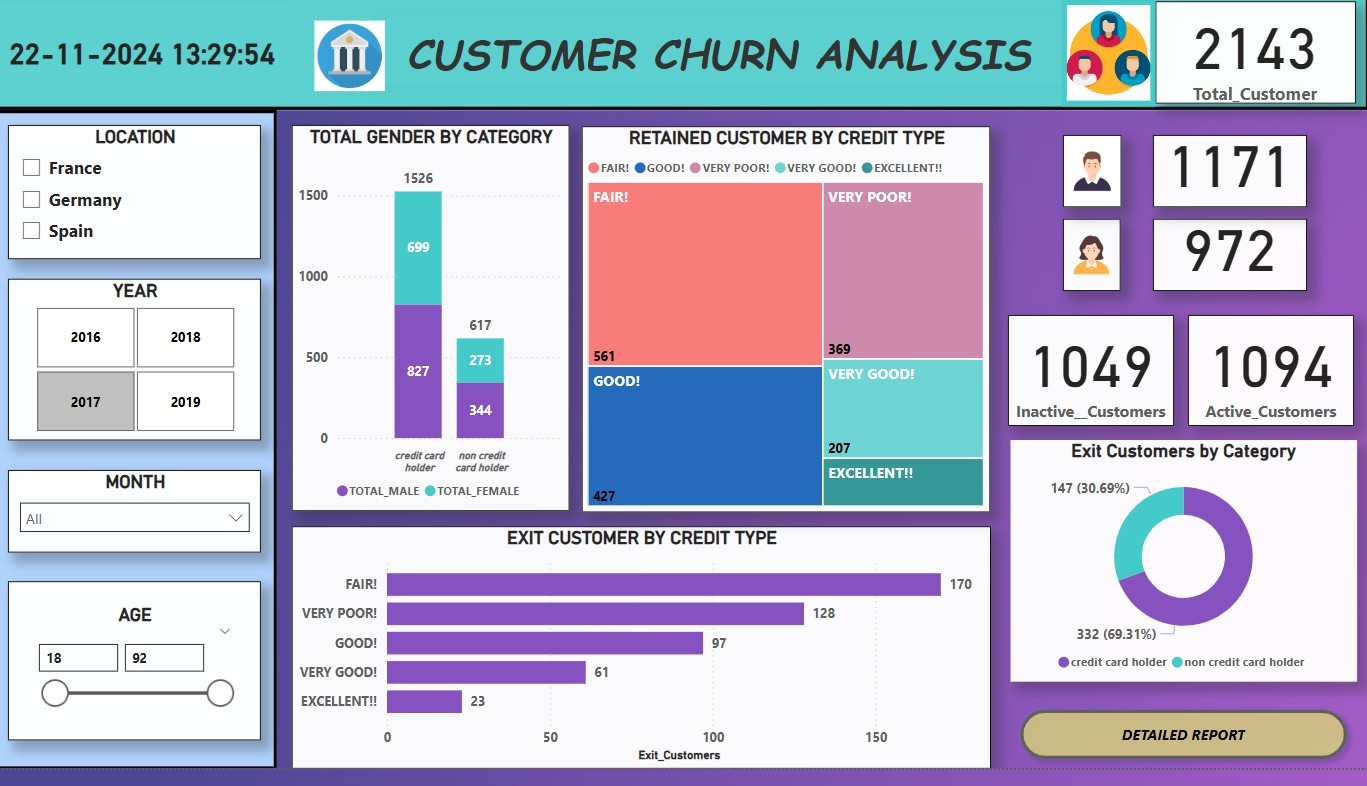

This screenshot's page, from the dashboard's own definition file:
{"tool":"powerbi","page":{"name":"SHEET 1","canvas":[1280,720],"ordinal":0},"visuals":[{"type":"shape","box":[0,0,1280,106.9],"z":0},{"type":"shape","box":[0,106.9,264.2,613.6],"z":1000},{"type":"slicer","title":"YEAR","fields":{"Values":["DatemasterTable.Year"]},"box":[14.4,264.2,235.3,150.1],"z":2000},{"type":"slicer","title":"MONTH","fields":{"Values":["DatemasterTable.Month"]},"box":[14.4,441.9,235.3,76.8],"z":3000},{"type":"slicer","title":"LOCATION","fields":{"Values":["Geography.GeographyLocation"]},"box":[14.4,121.3,235.3,124.9],"z":4000},{"type":"card","fields":{"Values":["calculations.Inactive__Customers"]},"box":[944.7,297.4,154.7,103.5],"z":5000},{"type":"card","fields":{"Values":["calculations.Active_Customers"]},"box":[1112.1,297.4,154.7,103.5],"z":6000},{"type":"image","box":[995.8,207.9,53.5,67.4],"z":7000},{"type":"card","fields":{"Values":["calculations.TOTAL_FEMALE"]},"box":[1079.5,207.9,143,67.4],"z":8000},{"type":"image","box":[995.8,130,54.7,67.4],"z":9000},{"type":"card","fields":{"Values":["calculations.TOTAL_MALE"]},"box":[1079.5,130,143,67.4],"z":10000},{"type":"card","fields":{"Values":["calculations.Total_Customer"]},"box":[1081.4,5.8,186,95.3],"z":11000},{"type":"donutChart","title":"Exit Customers by Category","fields":{"Category":["Credit.Category"],"Y":["calculations.Exit_Customers"]},"box":[946.5,414,322.1,224.4],"z":12000},{"type":"columnChart","title":"TOTAL GENDER BY CATEGORY","fields":{"Category":["Credit.Category"],"Y":["calculations.TOTAL_MALE","calculations.TOTAL_FEMALE"]},"box":[277.9,120.9,258.1,359.3],"z":13000},{"type":"clusteredBarChart","title":"EXIT CUSTOMER BY CREDIT TYPE","fields":{"Y":["calculations.Exit_Customers"],"Category":["Bank_Churn.Credit_Type"]},"box":[277.9,494.2,650,225.6],"z":14000},{"type":"textbox","box":[341.9,23.3,651.2,61.6],"z":15000},{"type":"image","box":[1004.7,30.2,65.1,53.5],"z":16000},{"type":"image","box":[294.2,17.4,75.6,77.9],"z":17000},{"type":"image","box":[994.2,4.7,87.2,98.8],"z":18000},{"type":"treemap","title":"RETAINED CUSTOMER BY CREDIT TYPE","fields":{"Group":["Bank_Churn.Credit_Type"],"Values":["calculations.Retained_Customers"]},"box":[547.7,122.1,380.2,359.3],"z":19000},{"type":"slicer","title":"AGE","fields":{"Values":["Bank_Churn.Age"]},"box":[14,545.4,234.9,147.7],"z":20000},{"type":"card","fields":{"Values":["Min(Last Refreshed time.Last Refreshed time)"]},"box":[0,9.3,277.9,89.5],"z":21000},{"type":"actionButton","box":[946.5,655.8,322.1,64],"z":22000}]}

Visuals, with their boxes in screenshot pixels (x1, y1, x2, y2), scaled from the page's 1280x720 canvas onto the 1367x786 screenshot:
shape: x1=0, y1=0, x2=1366, y2=117
shape: x1=0, y1=117, x2=282, y2=785
"YEAR" slicer: x1=15, y1=288, x2=267, y2=452
"MONTH" slicer: x1=15, y1=482, x2=267, y2=566
"LOCATION" slicer: x1=15, y1=132, x2=267, y2=269
card - calculations.Inactive__Customers: x1=1009, y1=325, x2=1174, y2=438
card - calculations.Active_Customers: x1=1188, y1=325, x2=1353, y2=438
image: x1=1063, y1=227, x2=1121, y2=301
card - calculations.TOTAL_FEMALE: x1=1153, y1=227, x2=1306, y2=301
image: x1=1063, y1=142, x2=1122, y2=215
card - calculations.TOTAL_MALE: x1=1153, y1=142, x2=1306, y2=215
card - calculations.Total_Customer: x1=1155, y1=6, x2=1354, y2=110
"Exit Customers by Category" donutChart: x1=1011, y1=452, x2=1355, y2=697
"TOTAL GENDER BY CATEGORY" columnChart: x1=297, y1=132, x2=572, y2=524
"EXIT CUSTOMER BY CREDIT TYPE" clusteredBarChart: x1=297, y1=540, x2=991, y2=785
textbox: x1=365, y1=25, x2=1061, y2=93
image: x1=1073, y1=33, x2=1143, y2=91
image: x1=314, y1=19, x2=395, y2=104
image: x1=1062, y1=5, x2=1155, y2=113
"RETAINED CUSTOMER BY CREDIT TYPE" treemap: x1=585, y1=133, x2=991, y2=526
"AGE" slicer: x1=15, y1=595, x2=266, y2=757
card - Min(Last Refreshed time.Last Refreshed time): x1=0, y1=10, x2=297, y2=108
actionButton: x1=1011, y1=716, x2=1355, y2=785
